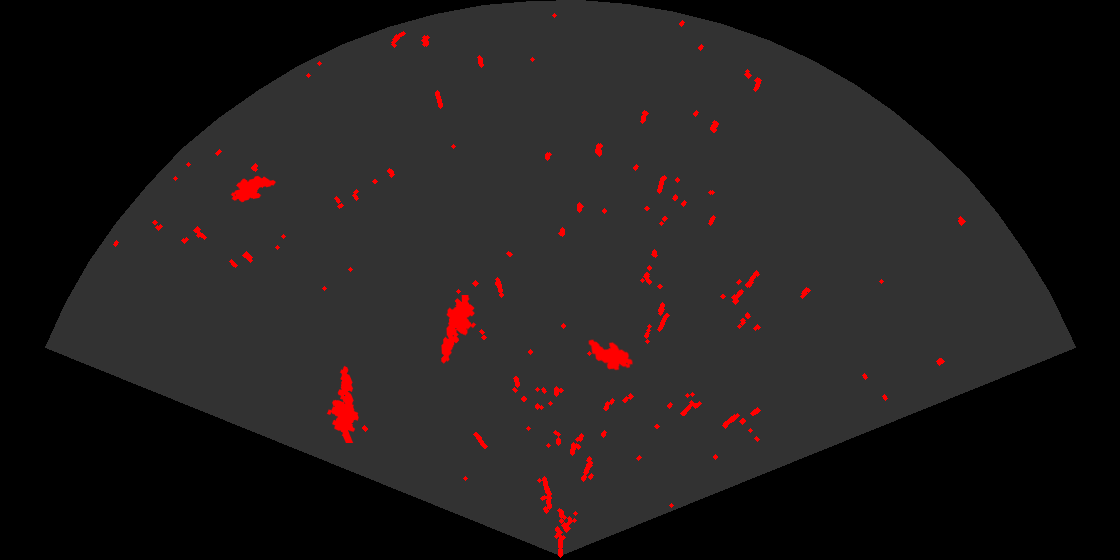AUV: (587, 338, 635, 372), (229, 174, 278, 204)
frogman: (325, 364, 360, 443), (440, 295, 478, 365)
